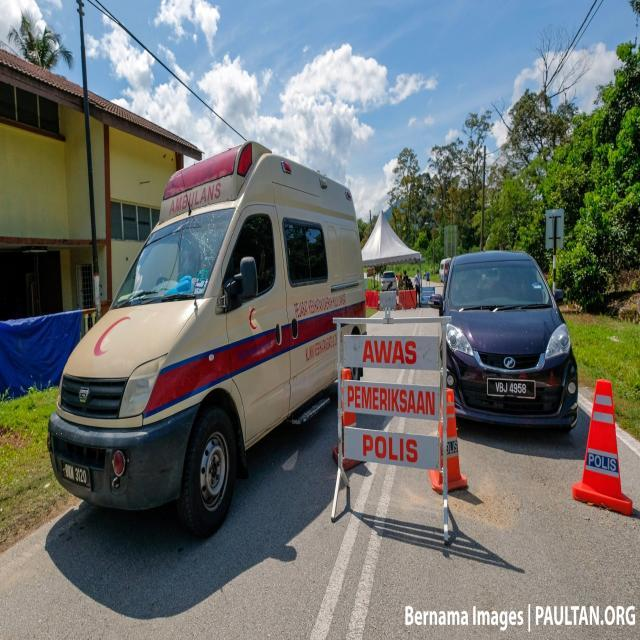emergency-vehicle: (46, 123, 366, 540)
